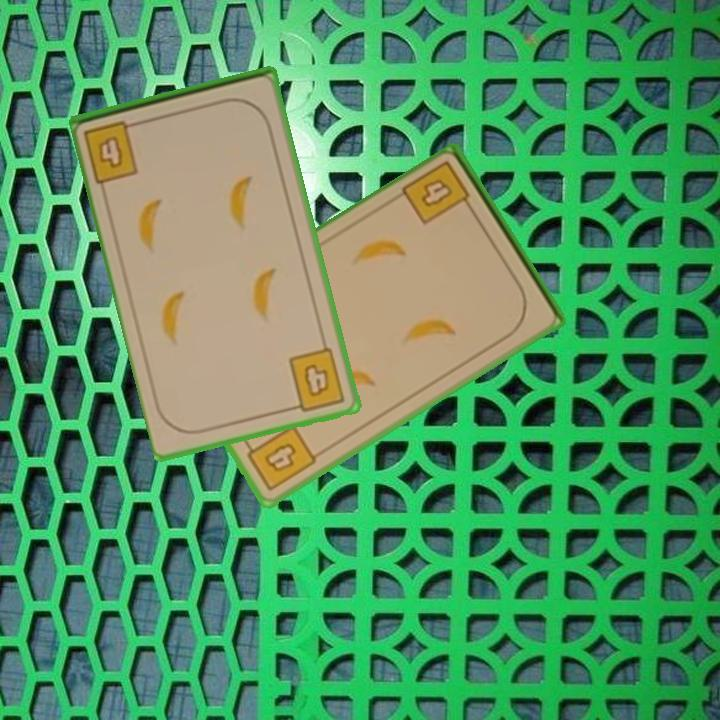4b: (240, 421, 320, 495), (399, 157, 477, 228), (80, 116, 145, 186), (285, 344, 348, 414)
